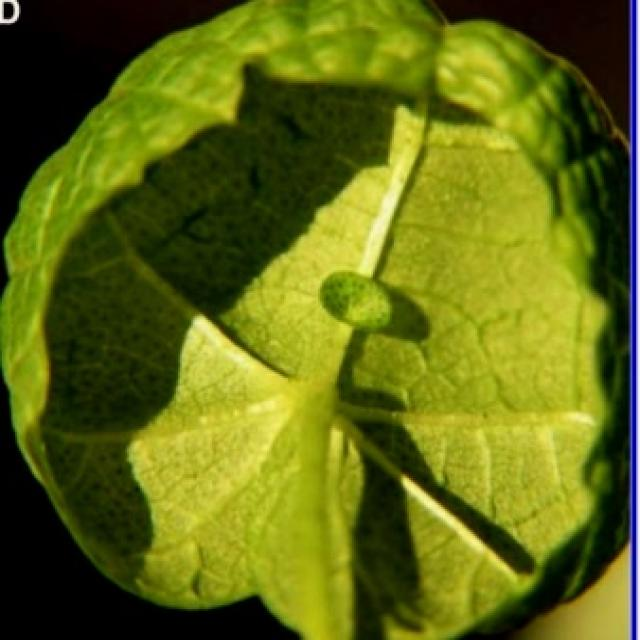Leaf Curl Virus: (78, 54, 606, 640)
